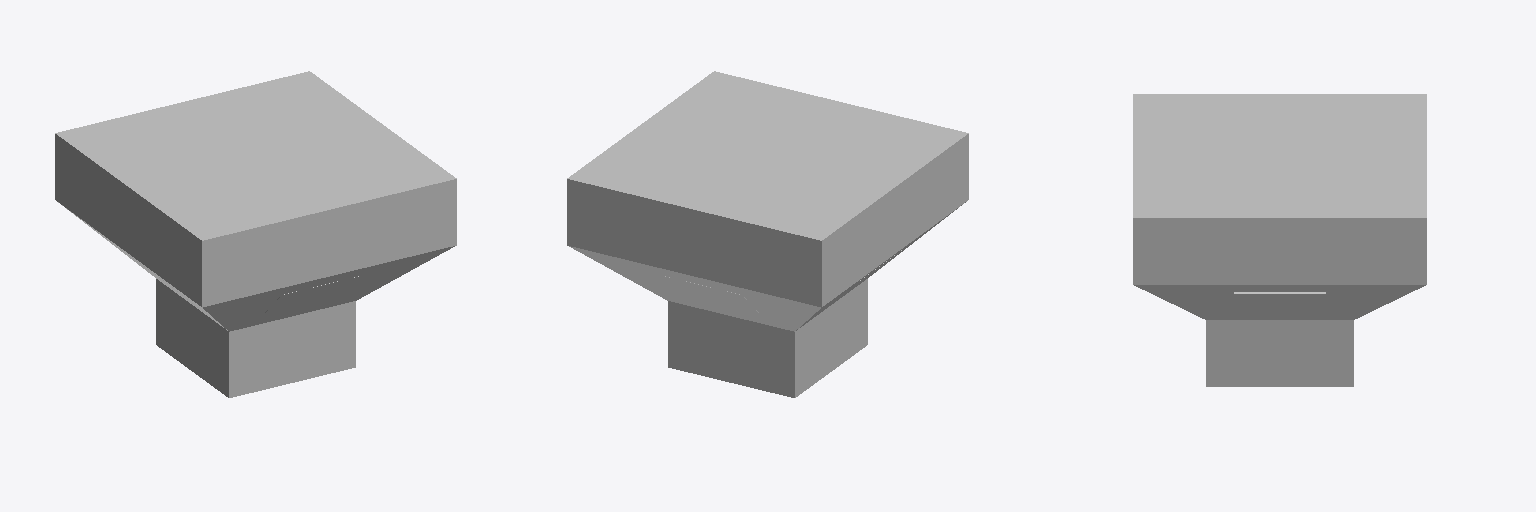
The model's file is node_charger.obj.
3 renders of one model, left to right at view 1: azimuth 30°, elevation 25°; view 2: azimuth 150°, elevation 25°; view 3: azimuth 270°, elevation 25°, orthographic.
Parts seen in each view (by area): view 1: lock, cube; view 2: lock, cube; view 3: lock, cube.
Part boxes in pixels (x1,y1,x2,y2): lock: (55, 71, 456, 397); cube: (122, 250, 360, 317); lock: (567, 71, 968, 397); cube: (663, 250, 901, 317); lock: (1133, 94, 1426, 386); cube: (1234, 292, 1325, 314).
Size of the model in its own units: 1 by 0.75 by 1.